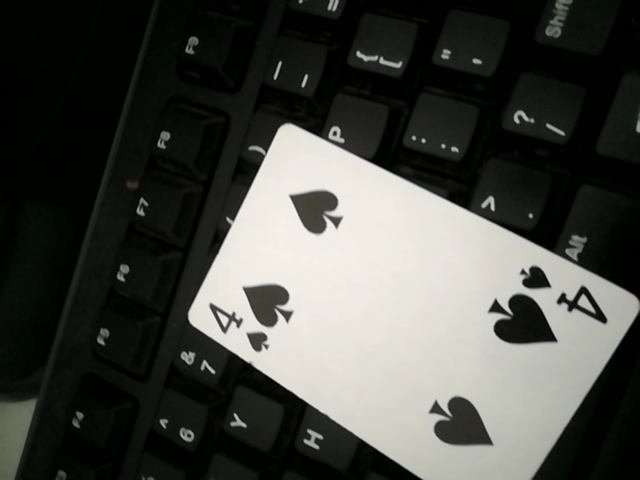ht 4: (174, 117, 640, 480)
